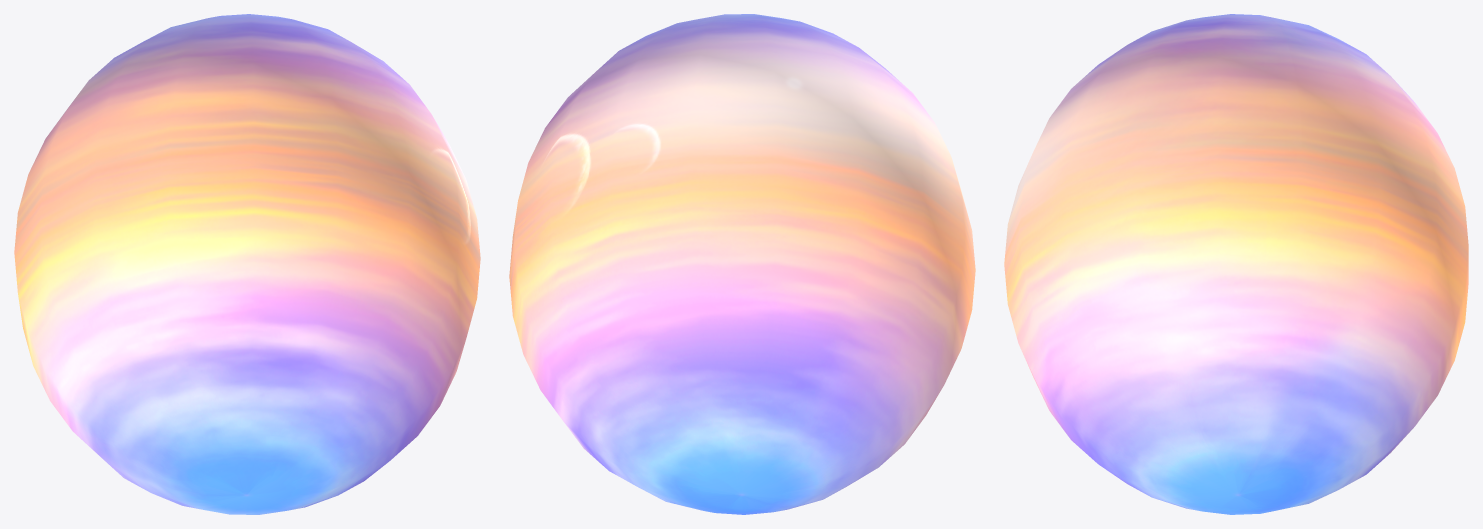
Rendered from stage3-sky.glb.
3 renders of one model, left to right at view 1: azimuth 30°, elevation 25°; view 2: azimuth 150°, elevation 25°; view 3: azimuth 270°, elevation 25°, orthographic.
Parts seen in each view (by area): view 1: world_101; view 2: world_101; view 3: world_101.
Part boxes in pixels (<box>): world_101: <box>14,14,480,514</box>; world_101: <box>509,14,975,514</box>; world_101: <box>1004,14,1468,514</box>.
Size of the model in its own units: 902 by 984 by 898.
Materials: 1 (1 with a texture image).
